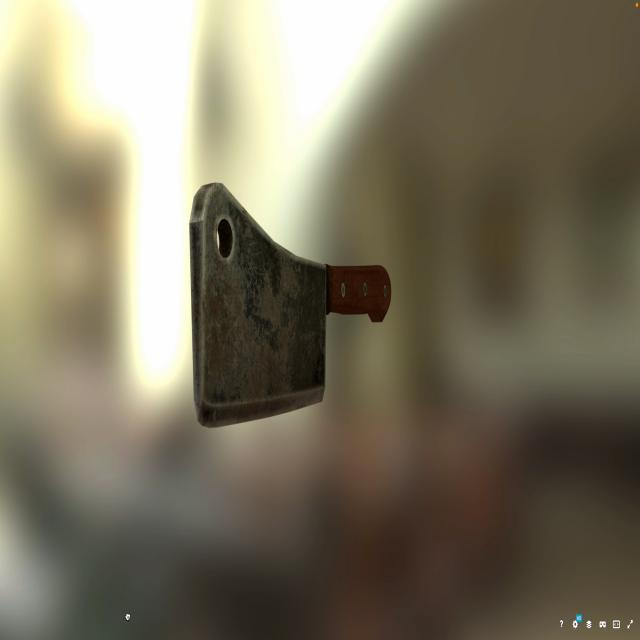cleaver: (192, 180, 388, 423)
